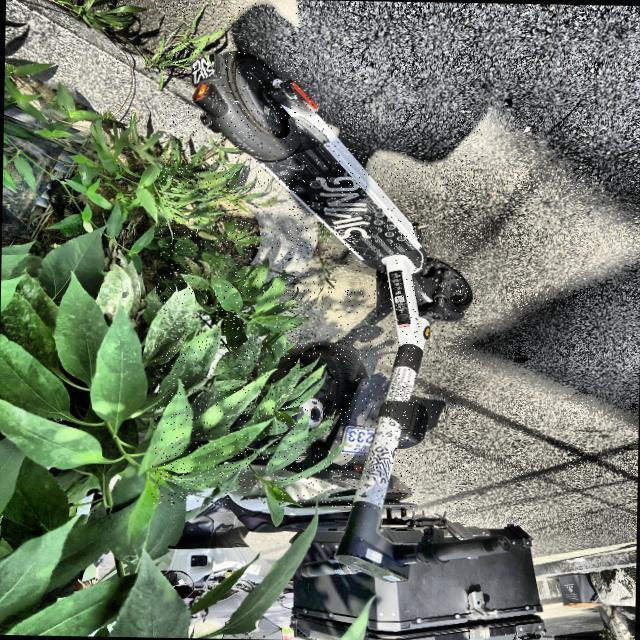bike: (3, 28, 563, 639)
